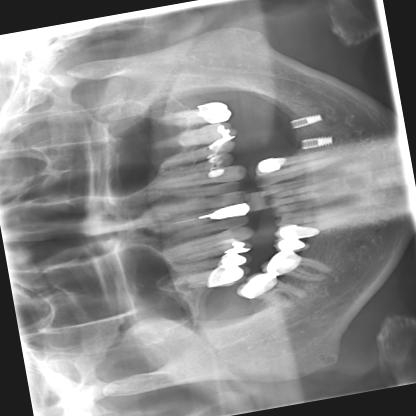Bicon: (280, 107, 330, 131), (296, 132, 334, 154)
